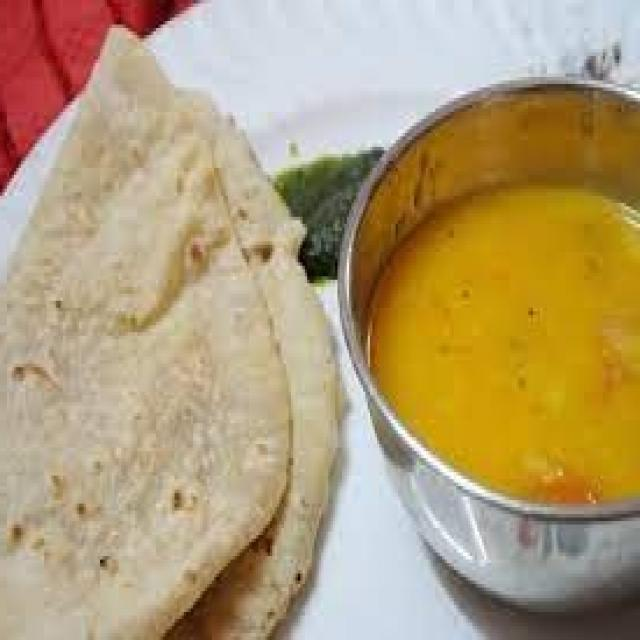Daal: (349, 137, 640, 518)
Roti: (0, 17, 307, 640)
